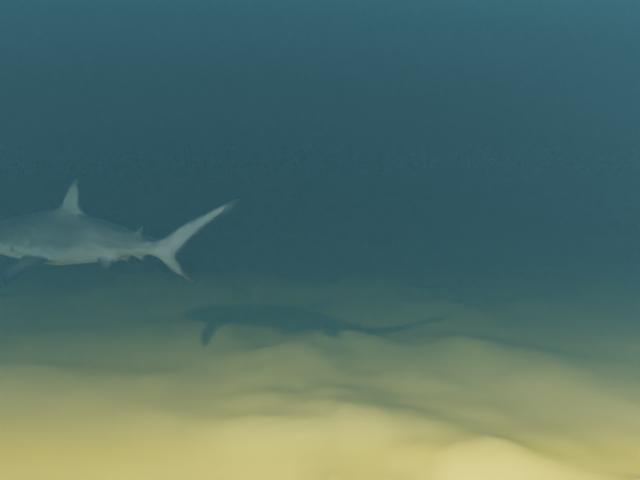Carribean Shark.001: (0, 178, 241, 284)
